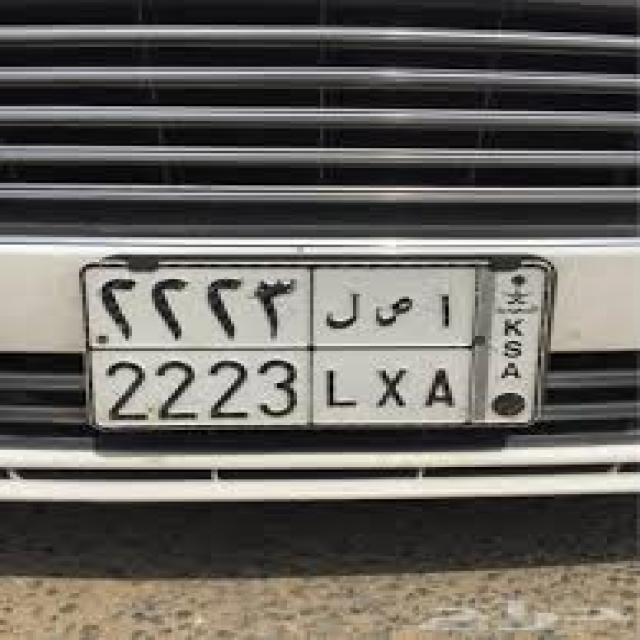license_plate: (76, 252, 564, 435)
